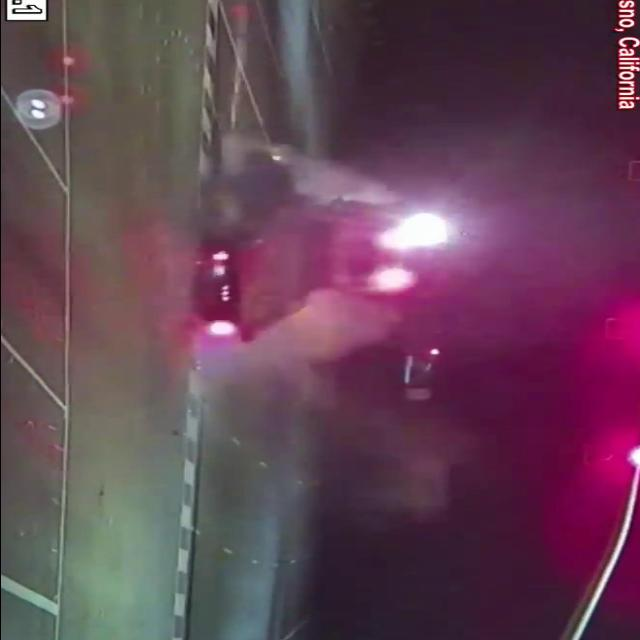accident: (168, 140, 423, 353)
